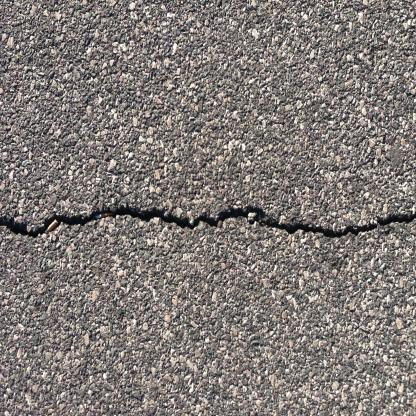Cracks: (0, 192, 416, 256)
